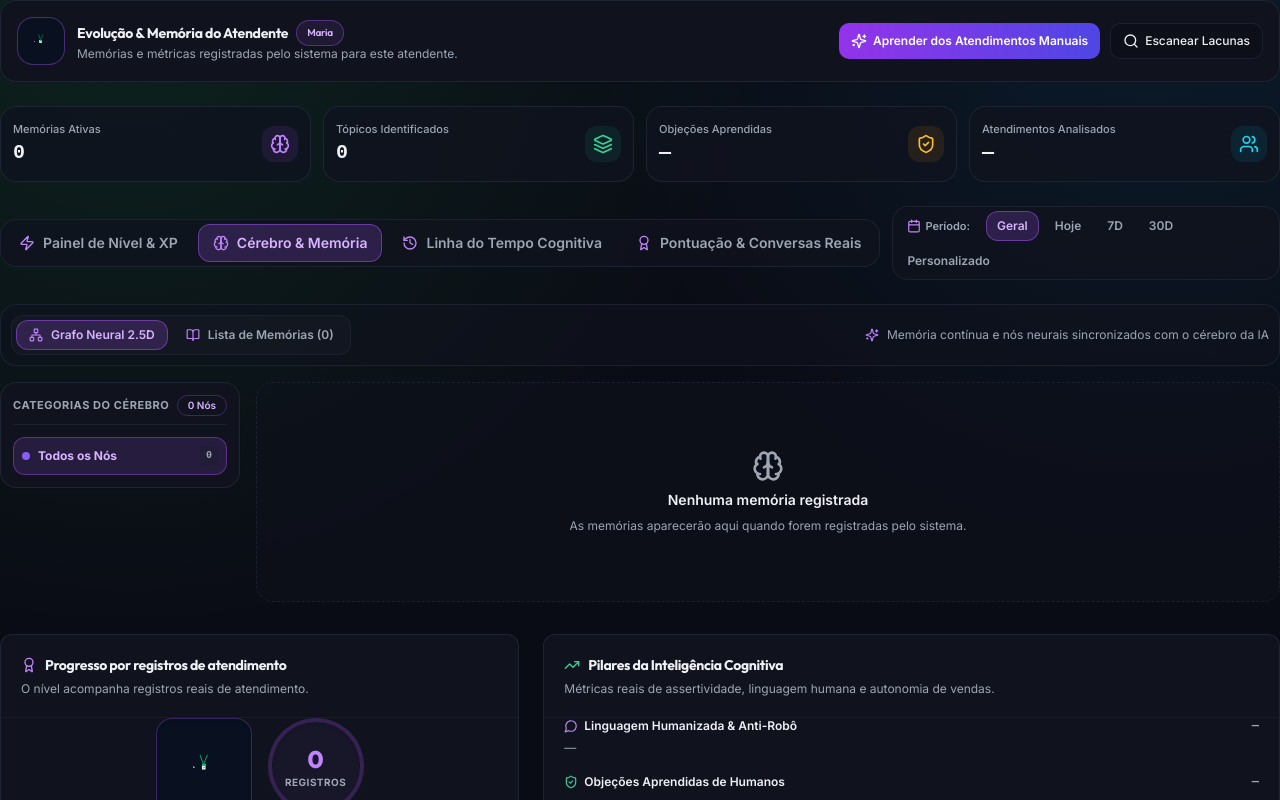
EvolutionTab uses only returned memory and evolution data › keeps candidate learning fields honest when the API omits them and preserves zero confidence
This screenshot has width=1280, height=800.
What coordinates should you click on to do the following:
click the button "Linha do Tempo Cognitiva"
I would click on:
 (502, 243)
Its box is x1=388 y1=225 x2=616 y2=261.
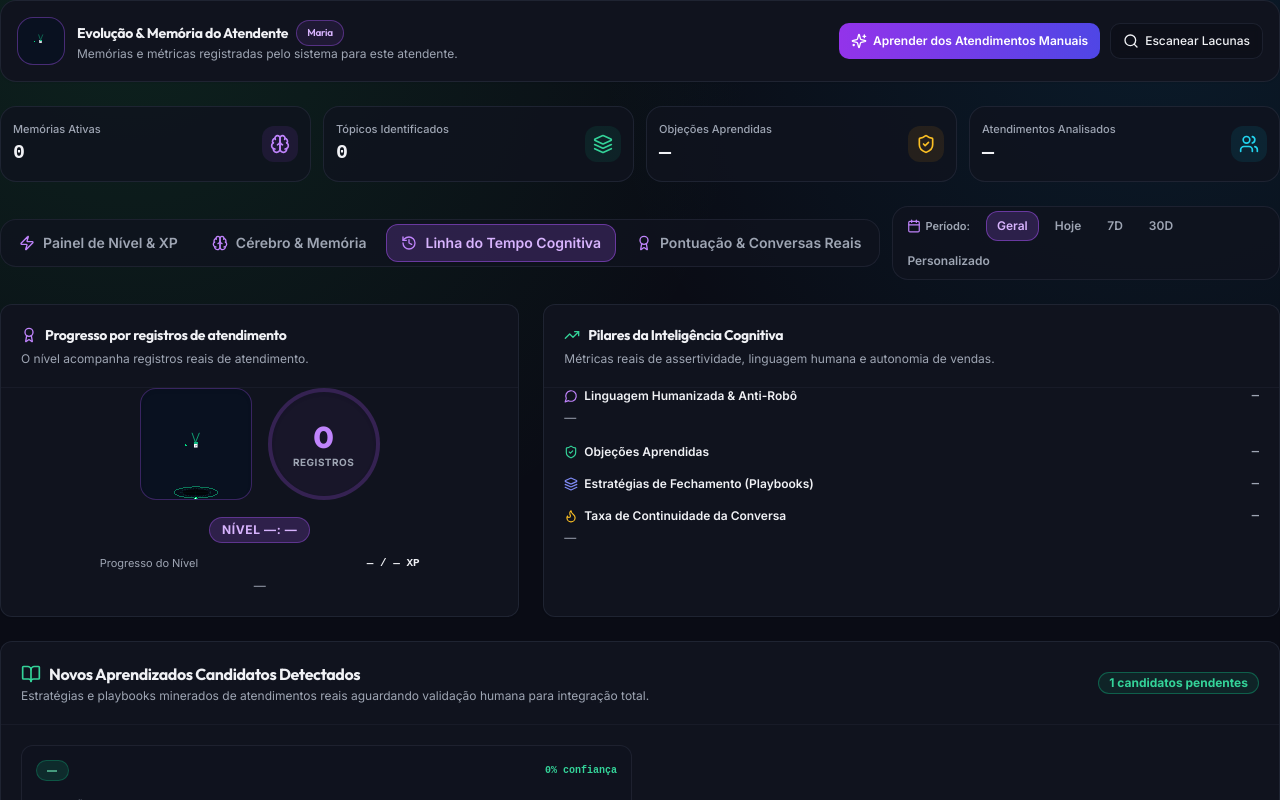
Expected: the text "0% confiança" is shown, x1=545 y1=762 x2=617 y2=778
